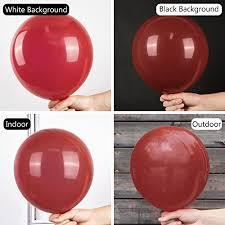red: (10, 15, 92, 98), (11, 128, 92, 211), (130, 126, 209, 209), (131, 16, 209, 95)
